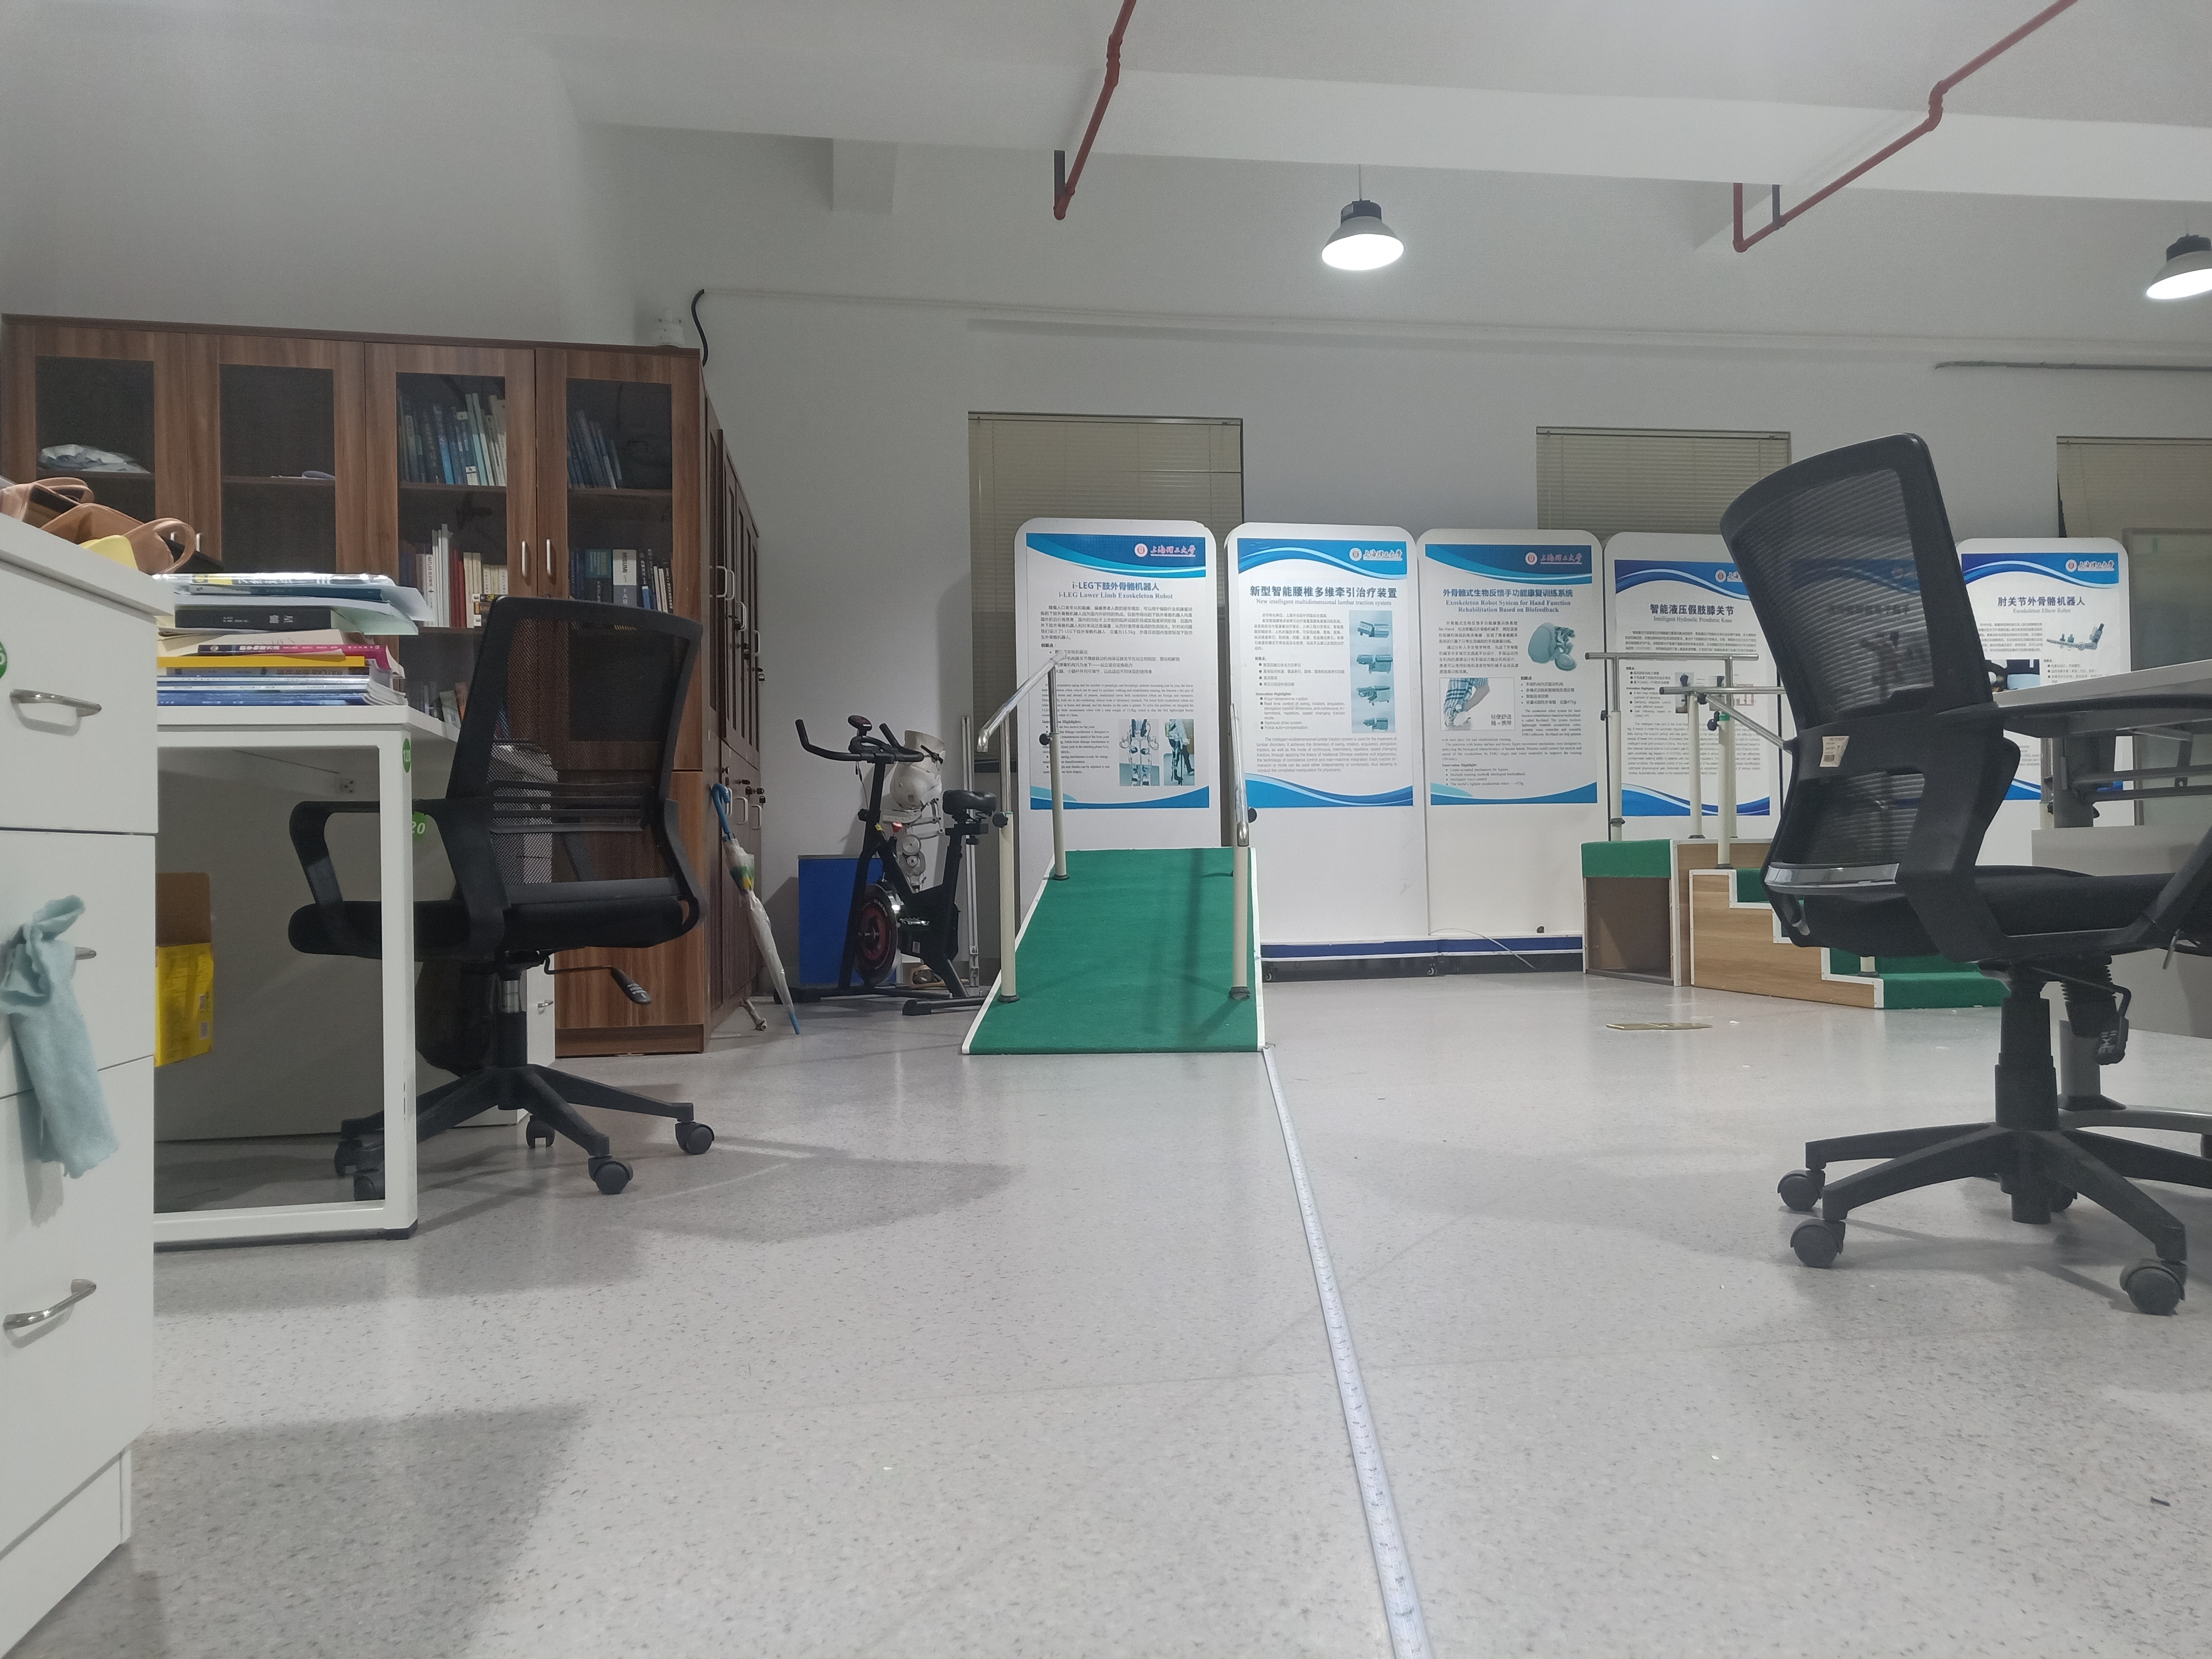ramps: (958, 845, 1266, 1058)
